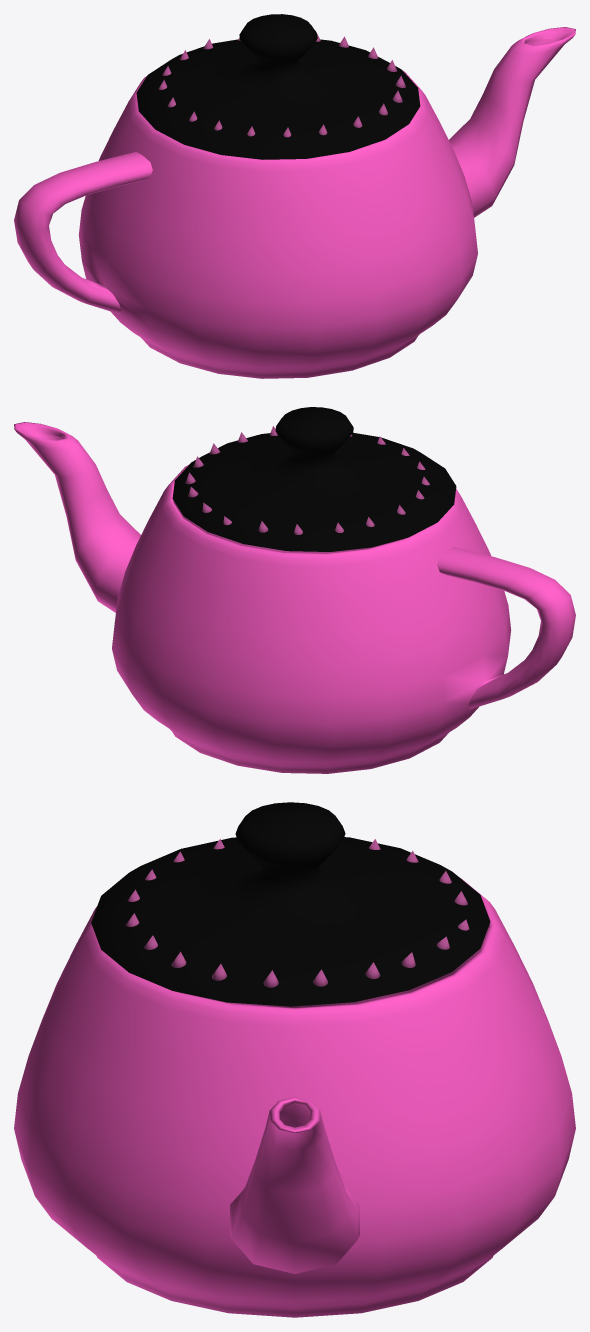
Rendered from teapot-BP.gltf.
3 renders of one model, top to bottom at view 1: azimuth 30°, elevation 25°; view 2: azimuth 150°, elevation 25°; view 3: azimuth 270°, elevation 25°, orthographic. The views are drawn at different scales.
Parts seen in each view (by area): view 1: Lid, Body; view 2: Lid, Body; view 3: Lid, Body.
Part boxes in pixels (x1,y1,x2,y2): Lid: (14,27,575,378); Body: (136,14,420,159); Lid: (14,422,575,773); Body: (172,407,456,551); Lid: (14,877,575,1317); Body: (91,802,490,1006).
Bounding box in the file's own units: 6.43 × 3.33 × 4.
